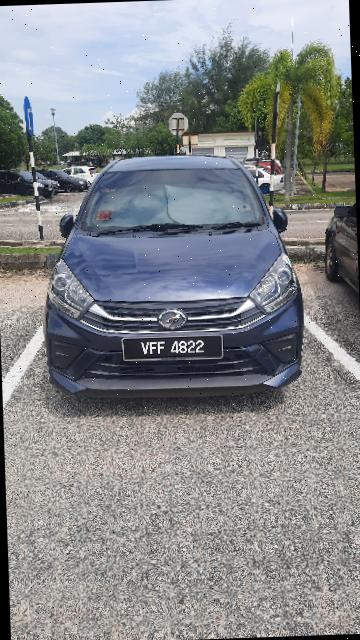License_Plate: (121, 328, 228, 368)
car: (35, 143, 310, 403)
